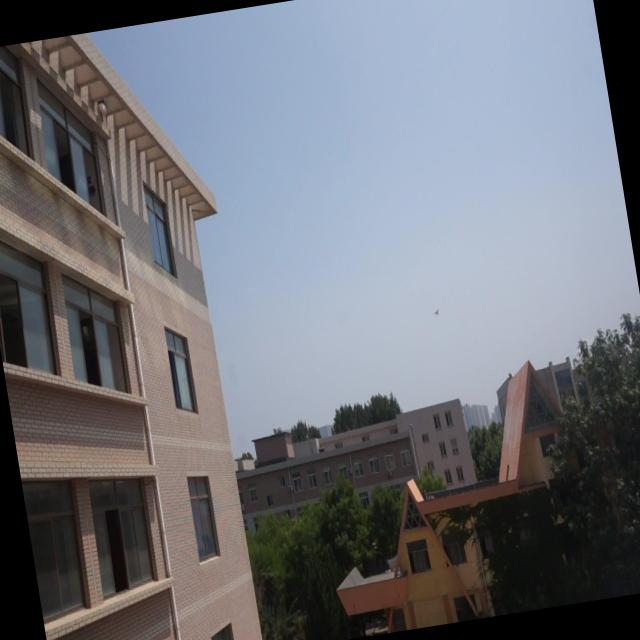drone: (432, 304, 443, 318)
